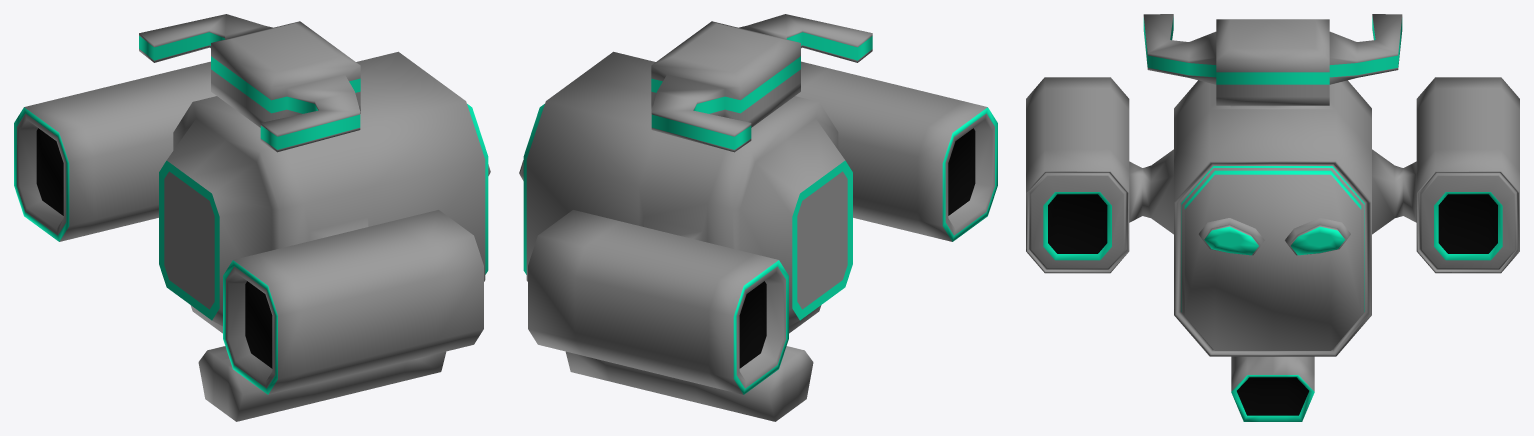
Rendered from Lowpoly Enemy Drone.fbx.
The picture shows the model from 3 angles, left to right: view 1: azimuth 30°, elevation 25°; view 2: azimuth 150°, elevation 25°; view 3: azimuth 270°, elevation 25°; orthographic projection. The views are drawn at different scales.
Visible parts, largest first — view 1: Box011; view 2: Box011; view 3: Box011.
Boxes of the visible parts, x1,y1,x2,y2 form: Box011: (14, 14, 490, 421); Box011: (519, 14, 997, 421); Box011: (1026, 14, 1519, 421).
Size of the model in its own units: 19.38 by 20.84 by 28.78.
